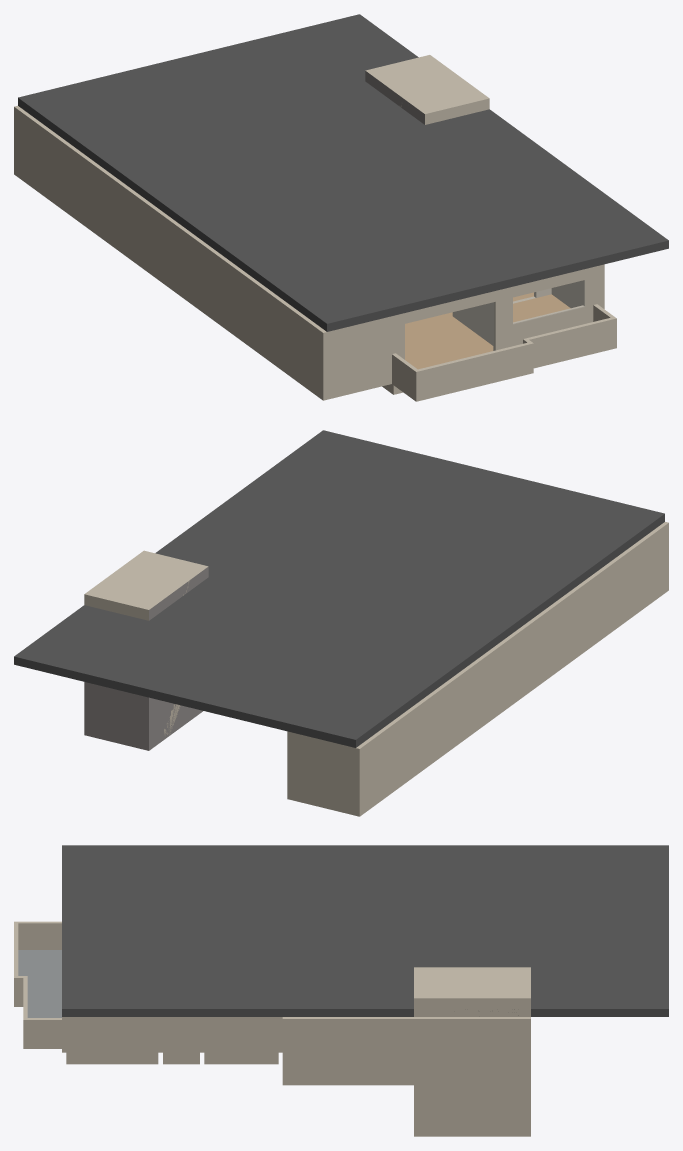
Rendered from Apt.fbx.
3 renders of one model, top to bottom at view 1: azimuth 30°, elevation 25°; view 2: azimuth 150°, elevation 25°; view 3: azimuth 270°, elevation 25°, orthographic.
Parts seen in each view (by area): view 1: Roof, Main; view 2: Roof, Main; view 3: Roof, Main.
Boxes of the visible parts, x1,y1,x2,y2 form: Roof: (18, 14, 668, 331); Main: (14, 55, 616, 401); Roof: (14, 430, 664, 747); Main: (84, 522, 668, 816); Roof: (62, 845, 668, 1016); Main: (14, 921, 530, 1136).
Bounding box in the file's own units: 1350 × 2231 × 520.
